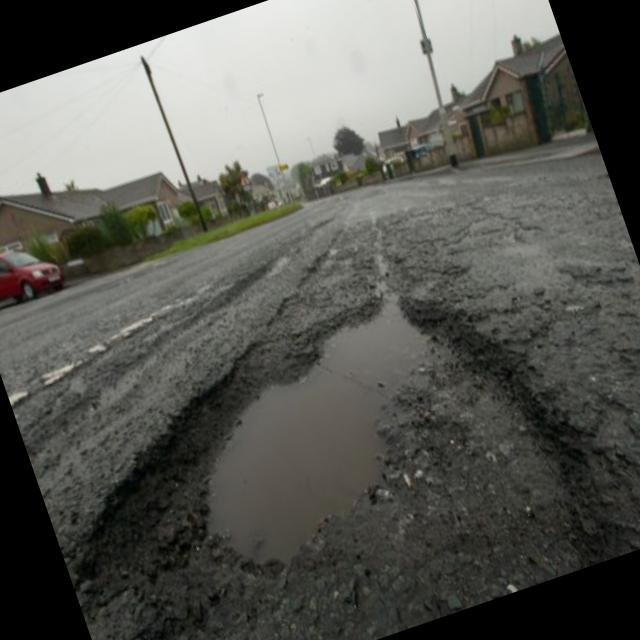Potholes: (64, 210, 581, 640)
